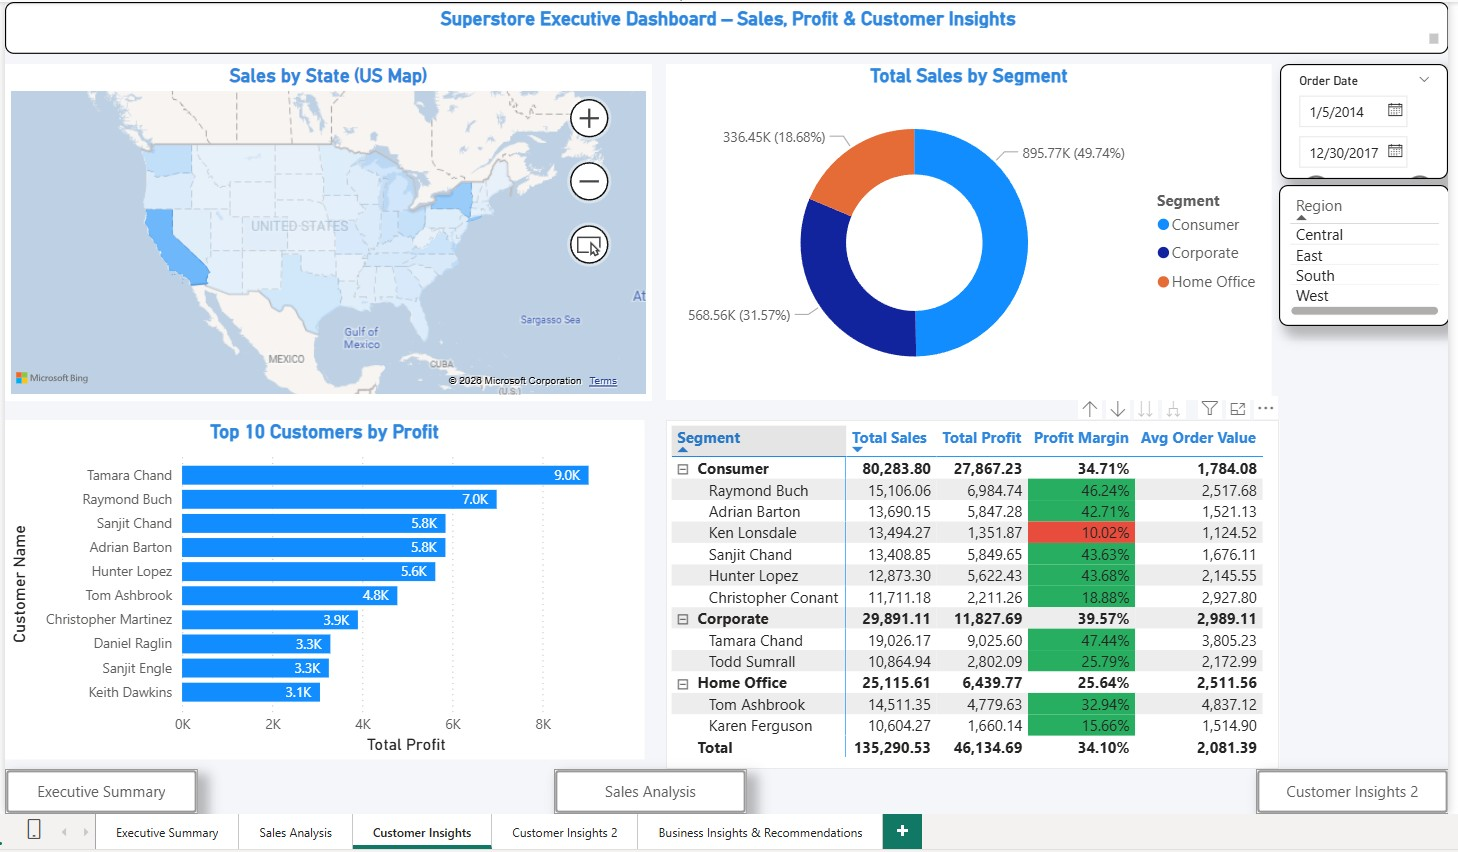

The page's visual inventory and layout, read from the dashboard file:
{"tool":"powerbi","page":{"name":"Customer Insights","canvas":[1280,720],"ordinal":2},"visuals":[{"type":"filledMap","title":"Sales by State (US Map)","fields":{"Category":["Location.State"]},"box":[0,55,572.8,297.9],"z":0},{"type":"donutChart","fields":{"Category":["Customer.Segment"],"Y":["Calendar.Total Sales"]},"box":[586.1,55,537.3,297.9],"z":1000},{"type":"pivotTable","fields":{"Rows":["Customer.Segment","Customer.Customer Name"],"Values":["Calendar.Total Sales","Calendar.Total Profit","Calendar.Profit Margin","Calendar.Avg Order Value"]},"box":[586.1,370.6,543.5,309.5],"z":2000},{"type":"clusteredBarChart","title":"Top 10 Customers by Profit","fields":{"Category":["Customer.Customer Name"],"Y":["Calendar.Total Profit"]},"box":[0,370.6,566.6,300.6],"z":3000},{"type":"slicer","fields":{"Values":["Sample - Superstore.Order Date"]},"box":[1130.6,54.8,149.4,101.5],"z":6000},{"type":"tableEx","fields":{"Values":["Location.Region"]},"box":[1129.4,162,150.6,125.5],"z":7000},{"type":"textbox","title":"Superstore Executive Dashboard – Sales, Profit & Customer Insights","box":[0,0,1280.4,46.1],"z":7001},{"type":"actionButton","box":[1109.3,680.1,171.1,39.9],"z":7002},{"type":"actionButton","box":[486.8,680.1,171.1,39.9],"z":7003},{"type":"actionButton","box":[0,680.1,171.1,39.9],"z":7004}]}

Visuals, with their boxes on the page's 1280x720 design canvas (x1, y1, x2, y2). These are canvas units, not pixel positions in the 1458x852 screenshot, which may show the page scaled, cropped or inside an application window:
"Sales by State (US Map)" filledMap: bbox=[0, 55, 573, 353]
donutChart - Customer.Segment x Calendar.Total Sales: bbox=[586, 55, 1123, 353]
pivotTable - Customer.Segment x Customer.Customer Name: bbox=[586, 371, 1130, 680]
"Top 10 Customers by Profit" clusteredBarChart: bbox=[0, 371, 567, 671]
slicer - Sample - Superstore.Order Date: bbox=[1131, 55, 1280, 156]
tableEx - Location.Region: bbox=[1129, 162, 1280, 288]
"Superstore Executive Dashboard – Sales, Profit & Customer Insights" textbox: bbox=[0, 0, 1280, 46]
actionButton: bbox=[1109, 680, 1280, 720]
actionButton: bbox=[487, 680, 658, 720]
actionButton: bbox=[0, 680, 171, 720]
